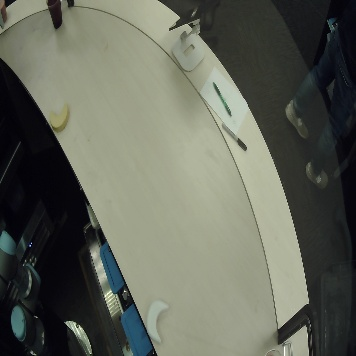full_cup: (45, 1, 68, 36)
puck: (145, 297, 170, 343), (47, 105, 71, 132)
